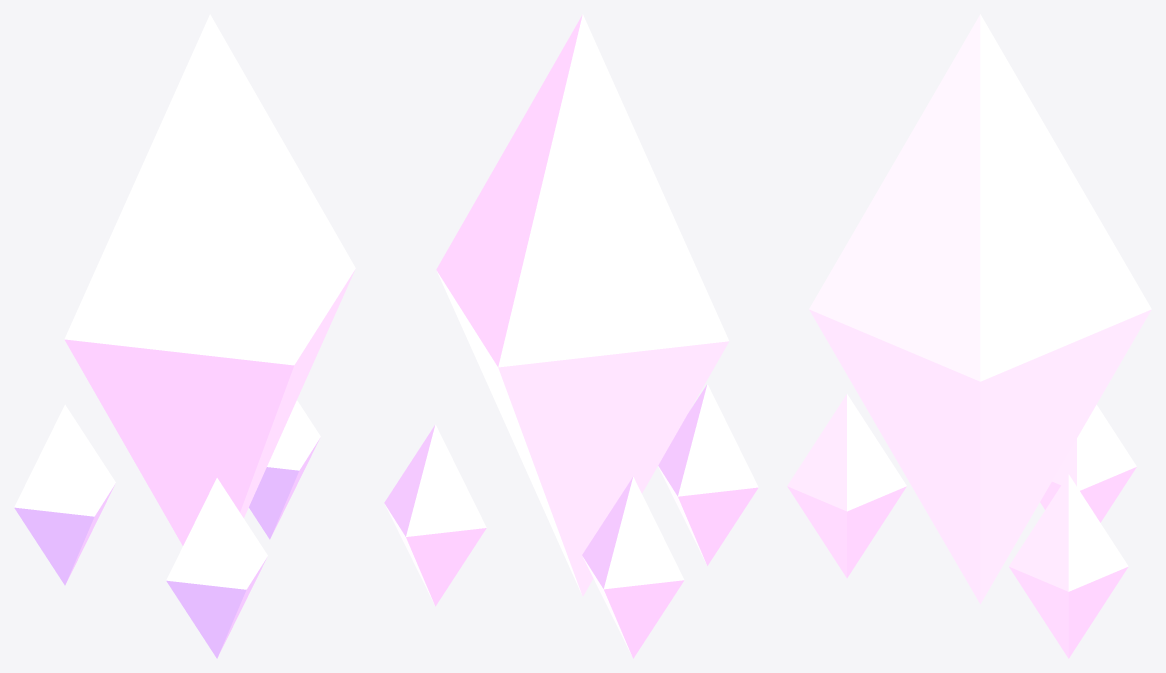
The model's file is crystal_1.glb.
3 renders of one model, left to right at view 1: azimuth 30°, elevation 25°; view 2: azimuth 150°, elevation 25°; view 3: azimuth 270°, elevation 25°, orthographic.
Visible parts, largest first — view 1: crystal_1; view 2: crystal_1; view 3: crystal_1.
Part boxes in pixels (left/top/right/bottom): crystal_1: left=14, top=14, right=355, bottom=658; crystal_1: left=384, top=14, right=758, bottom=658; crystal_1: left=787, top=14, right=1151, bottom=658.
Size of the model in its own units: 0.8308 by 1.53 by 0.8511.
